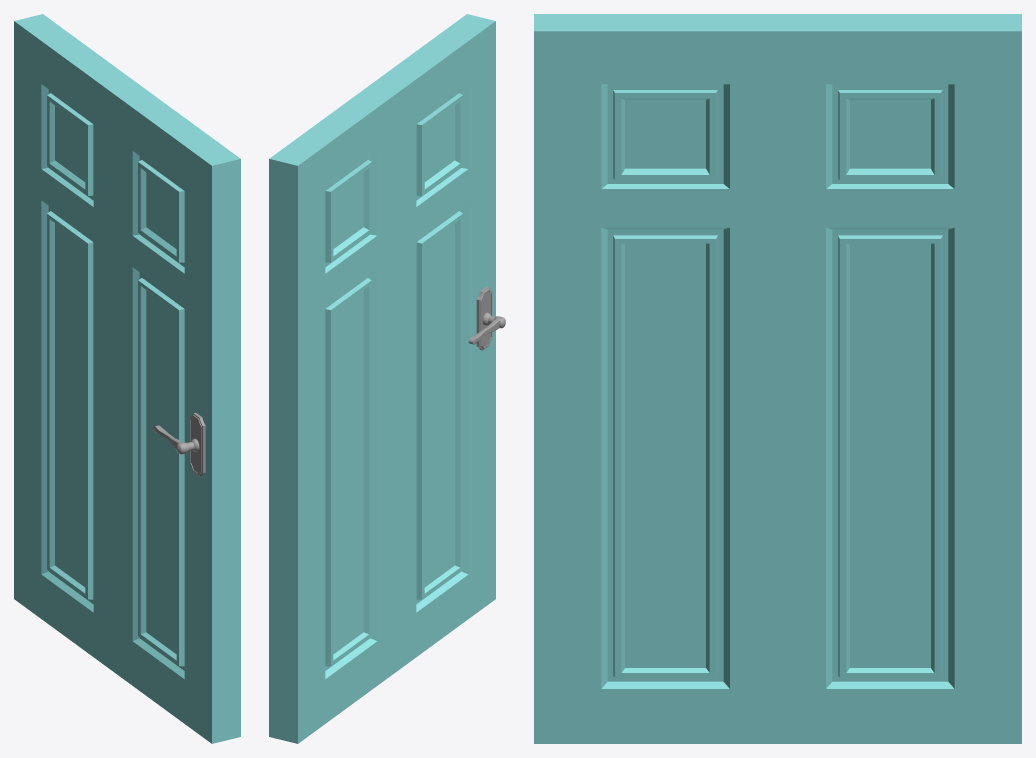
Rendered from Door.fbx.
3 views of the same model, side by side, from view 1: azimuth 30°, elevation 25°; view 2: azimuth 150°, elevation 25°; view 3: azimuth 270°, elevation 25° (orthographic). The views are drawn at different scales.
Parts seen in each view (by area): view 1: Door_Low, HandleBase_Low, Handle_Low; view 2: Door_Low, HandleBase_Low, Handle_Low; view 3: Door_Low.
Part boxes in pixels (x1,y1,x2,y2): Door_Low: (14,14,240,743); HandleBase_Low: (190,412,205,476); Handle_Low: (153,425,199,454); Door_Low: (269,14,495,743); HandleBase_Low: (476,286,492,350); Handle_Low: (469,312,505,344); Door_Low: (534,14,1021,743).
Size of the model in its own units: 0.1641 by 1.78 by 1.11.
